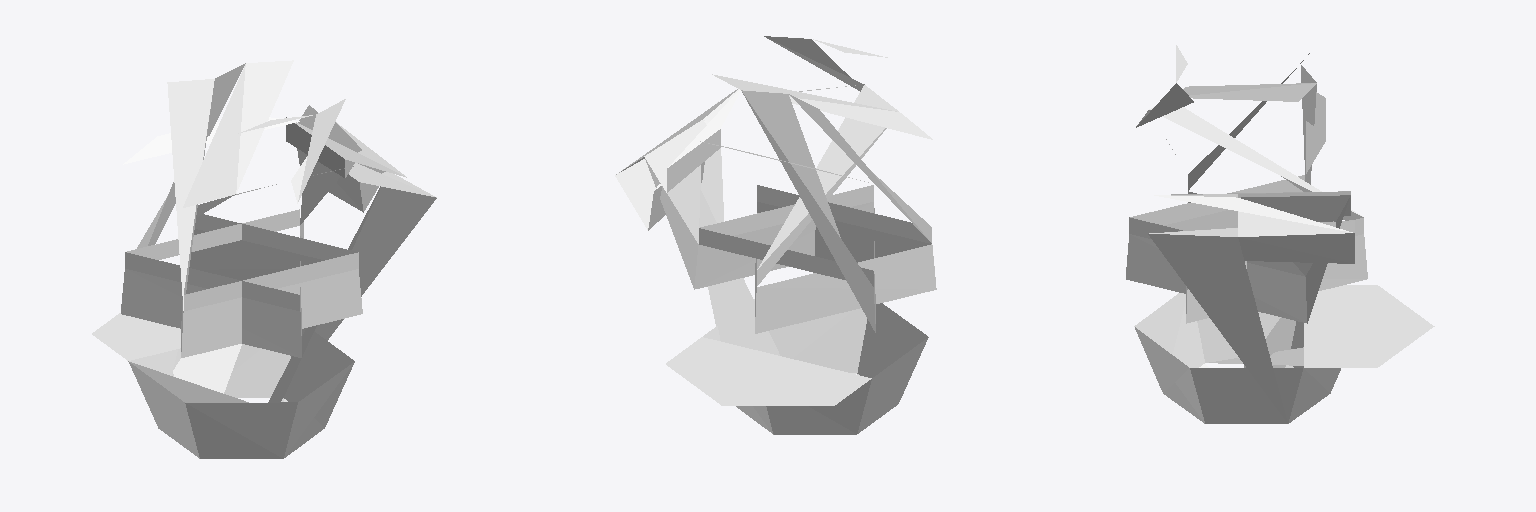
File: FTYKE.obj
The picture shows the model from 3 angles: view 1: azimuth 30°, elevation 25°; view 2: azimuth 150°, elevation 25°; view 3: azimuth 270°, elevation 25°; orthographic projection.
Visible parts, largest first — view 1: FTYKE_node00_face01, FTYKE_node00_face00; view 2: FTYKE_node00_face01, FTYKE_node00_face00; view 3: FTYKE_node00_face01, FTYKE_node00_face00.
Part boxes in pixels (x1,y1,x2,y2): FTYKE_node00_face01: (92, 60, 436, 458); FTYKE_node00_face00: (93, 313, 353, 458); FTYKE_node00_face01: (615, 36, 936, 434); FTYKE_node00_face00: (703, 303, 927, 405); FTYKE_node00_face01: (1126, 45, 1434, 423); FTYKE_node00_face00: (1134, 286, 1431, 392).
Size of the model in its own units: 292 by 406 by 321.